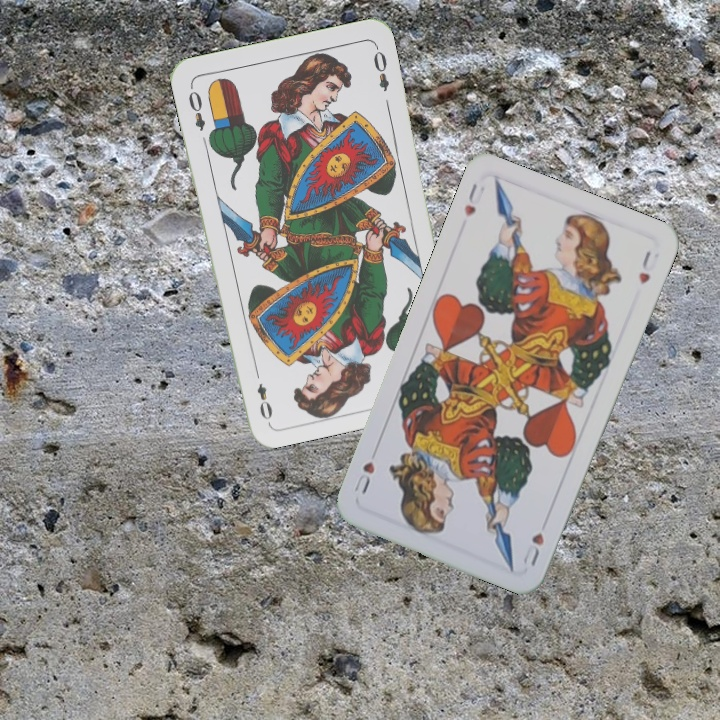EO: (184, 82, 208, 134)
HU: (519, 528, 547, 569), (460, 179, 480, 220)
